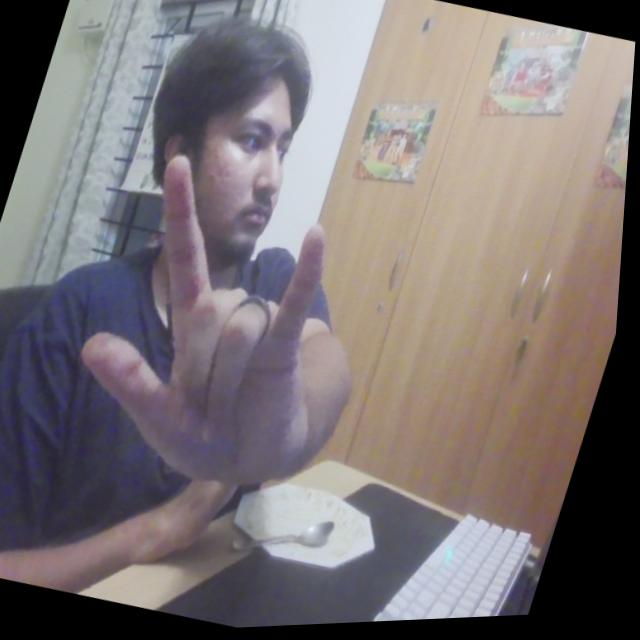iloveyou: (47, 135, 390, 519)
